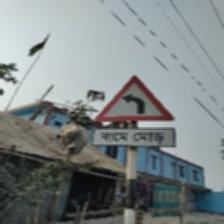Left-Turn: (91, 76, 177, 147)
